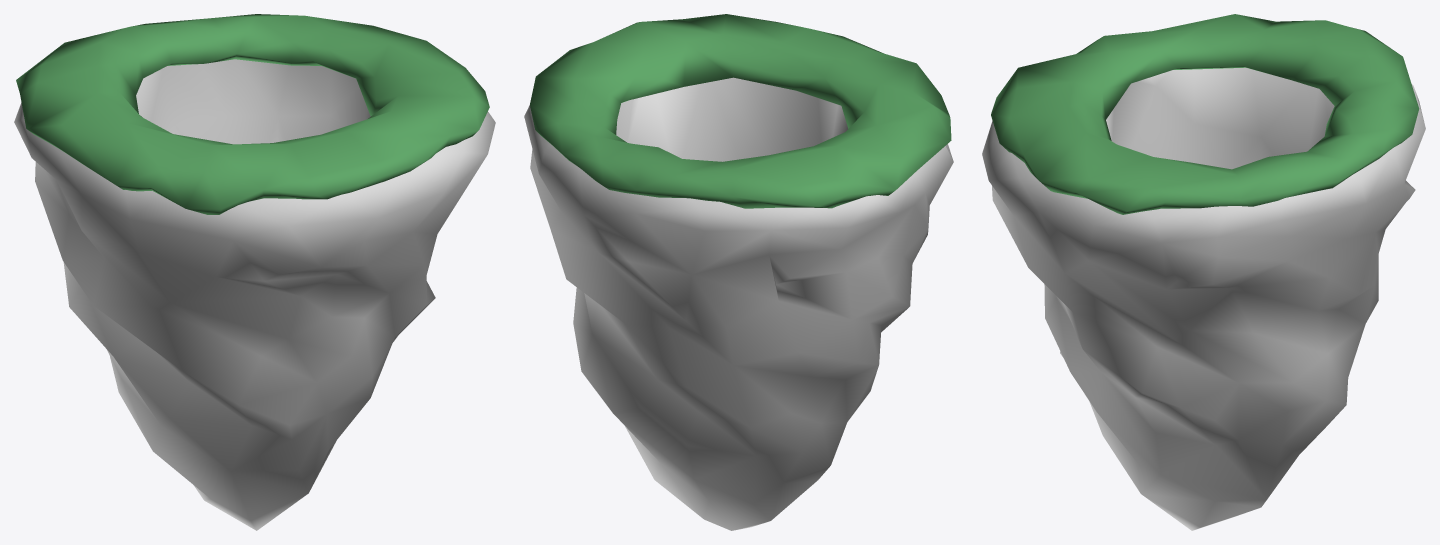
File: IslandBowl1LOD.fbx
3 views of the same model, side by side, from view 1: azimuth 30°, elevation 25°; view 2: azimuth 150°, elevation 25°; view 3: azimuth 270°, elevation 25° (orthographic).
Parts seen in each view (by area): view 1: IslandBowl1Base, IslandBowl1Top; view 2: IslandBowl1Base, IslandBowl1Top; view 3: IslandBowl1Base, IslandBowl1Top.
Boxes of the visible parts, x1,y1,x2,y2 form: IslandBowl1Base: (14, 59, 495, 530); IslandBowl1Top: (16, 14, 489, 214); IslandBowl1Base: (524, 77, 953, 530); IslandBowl1Top: (530, 14, 951, 208); IslandBowl1Base: (982, 67, 1425, 530); IslandBowl1Top: (991, 14, 1419, 214).
Size of the model in its own units: 8296 by 8968 by 8119.
